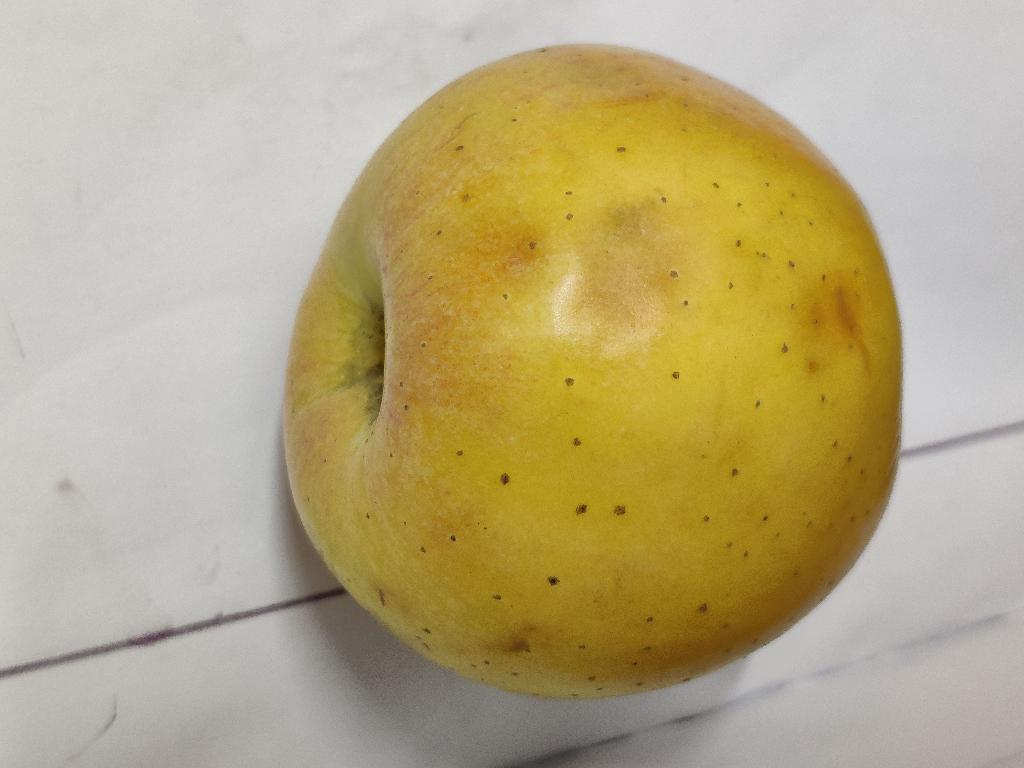apple: (290, 52, 907, 702)
bruise_discoloration: (553, 195, 705, 358)
